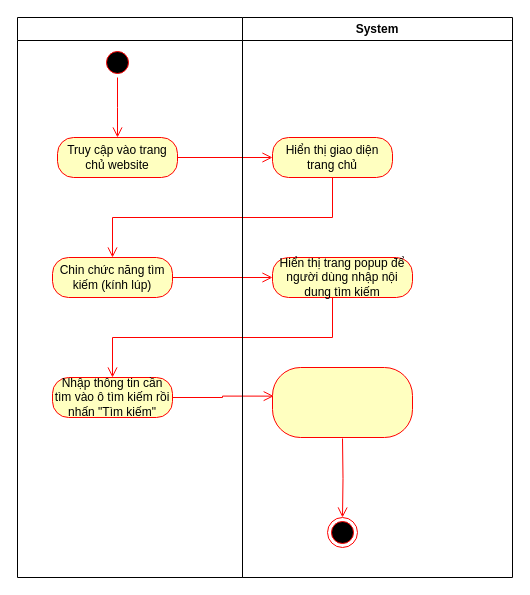
This 530x595 diagram has some shape labels left out. The shapes that lost their labels are listed below. From the top down, each one's centre as x and y in pixels, then its label:
At point (129, 297): "User".
At point (342, 402): "Hiển thị các sản phẩm liên quan đến thông tin mà người dùng nhạp vào".
